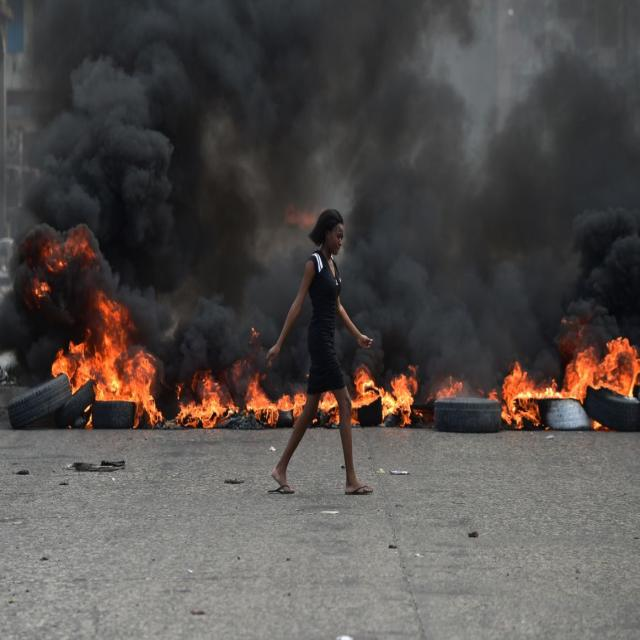fire: (51, 340, 154, 401), (562, 336, 640, 403), (501, 361, 540, 428), (177, 376, 225, 428), (43, 236, 96, 272), (352, 369, 383, 424), (96, 293, 128, 343), (246, 377, 278, 426)
